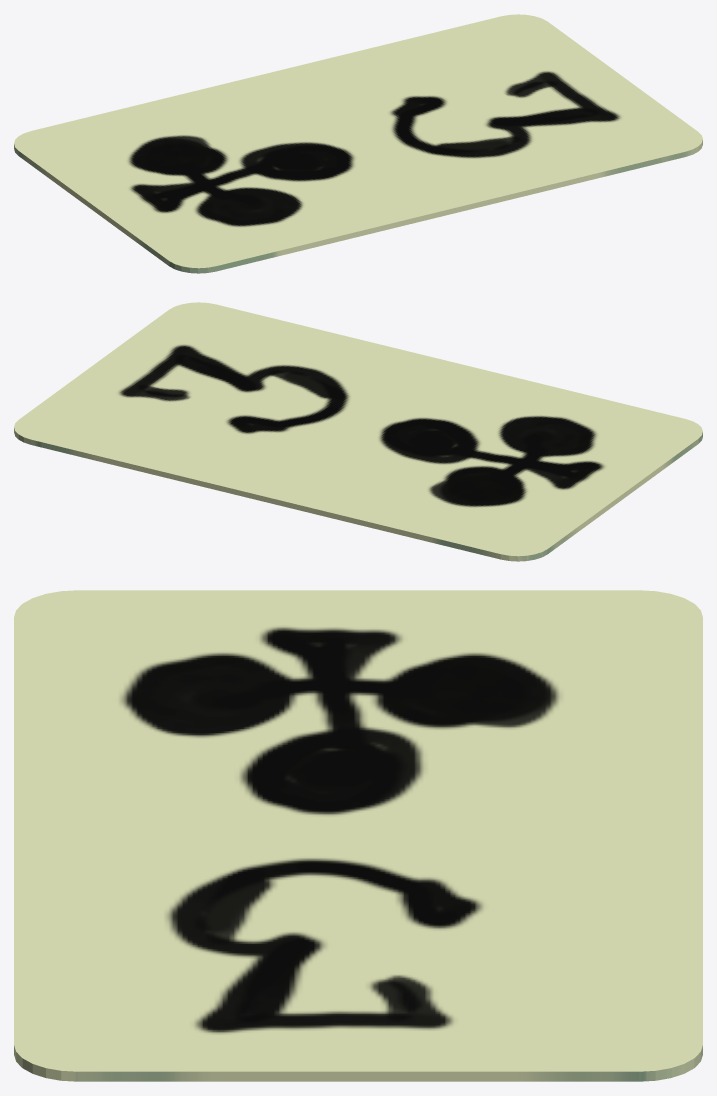
3 views of the same model, one above another, from view 1: azimuth 30°, elevation 25°; view 2: azimuth 150°, elevation 25°; view 3: azimuth 270°, elevation 25° (orthographic). The views are drawn at different scales.
Parts seen in each view (by area): view 1: Card; view 2: Card; view 3: Card.
Part boxes in pixels (<box>): Card: <box>14,14,702,273</box>; Card: <box>14,302,702,561</box>; Card: <box>14,590,702,1081</box>.
Size of the model in its own units: 0.6456 by 0.3904 by 0.00625.
Materials: 1 (1 with a texture image).
